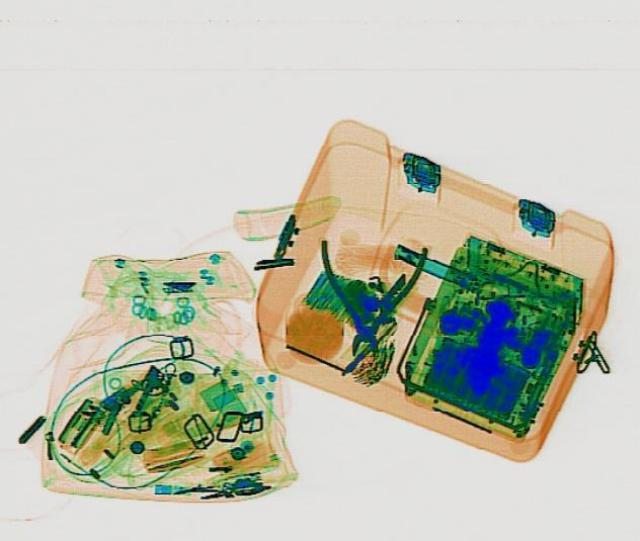Pliers: (308, 236, 426, 357)
